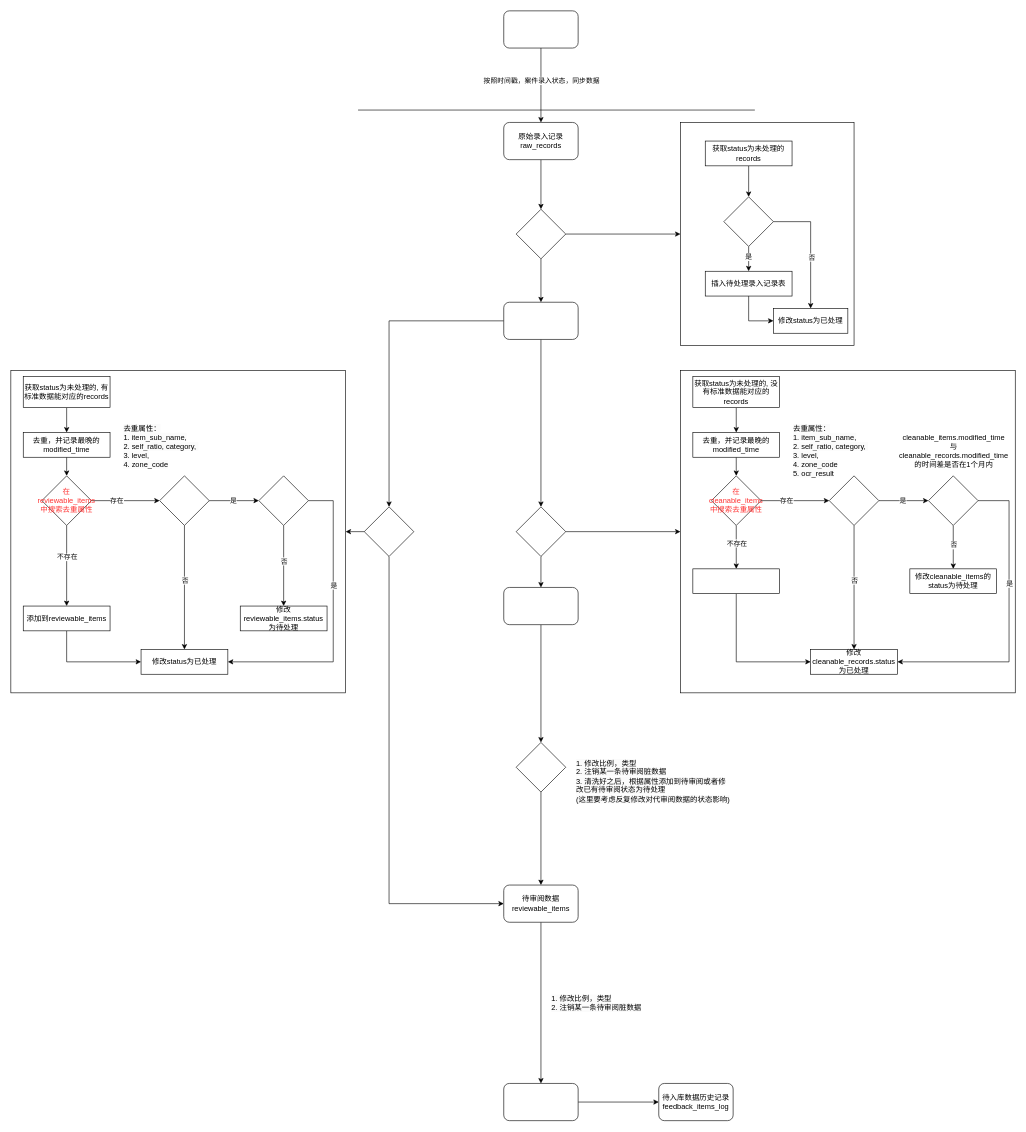
Image size: 1026x1132. Some labels were removed from this diagram. Each missing label, with the centre of its shape:
cleanable_items中是否已处理: point 854,500
reviewable_items中是否已处理: point 184,500
录入最终结果与推荐结果是否不一致: point 748,221
录入系统数据库: point 540,29
待入库数据 feedback_items: point 540,1102
待处理录入记录 cleanable_records: point 540,320
待清洗数据（去重） cleanable_items: point 540,606
添加到cleanable_items， status为待处理: point 736,581
